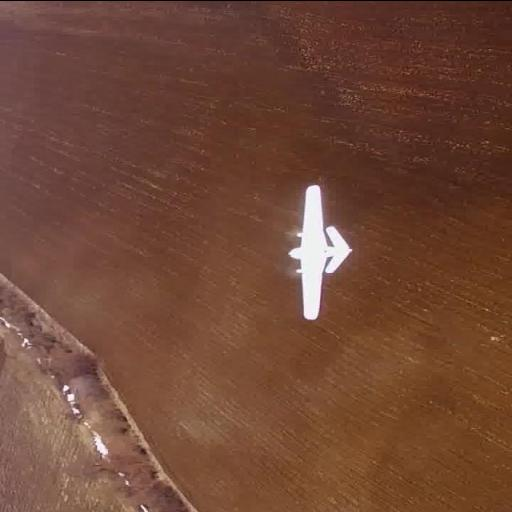uav: (279, 185, 361, 321)
